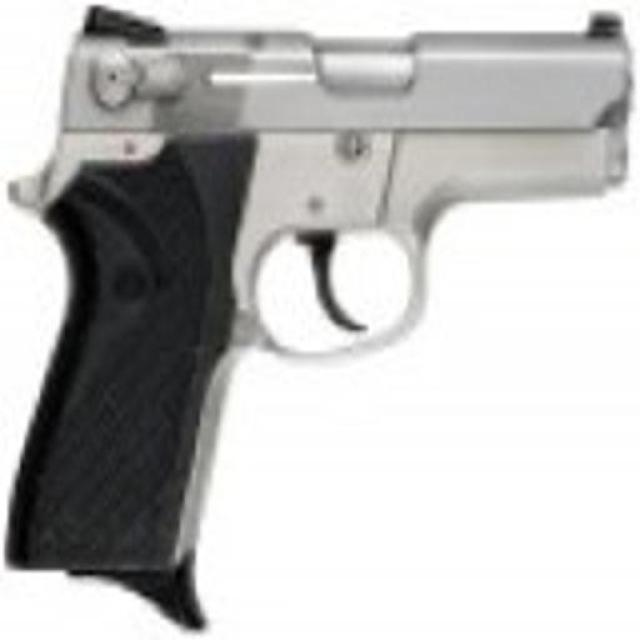pistol: (7, 5, 627, 617)
